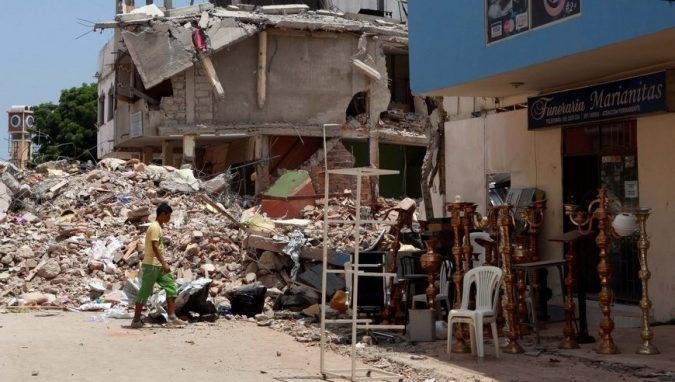destroyed: (85, 0, 430, 316)
